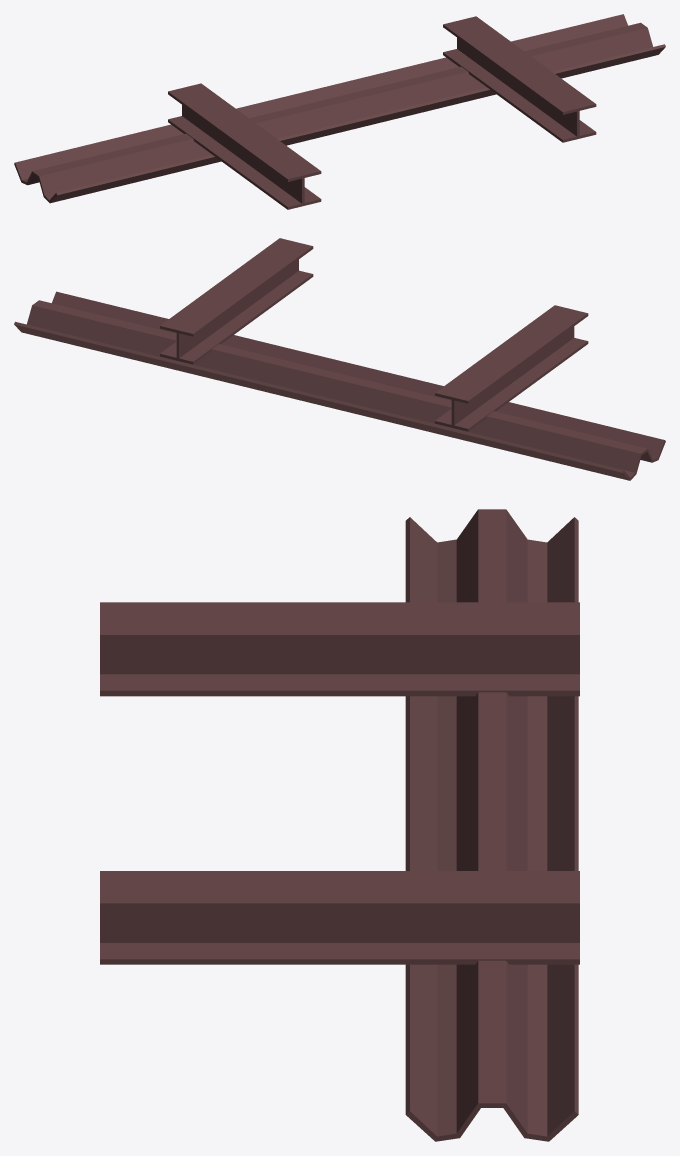
The model's file is Barrier.fbx.
The picture shows the model from 3 angles, top to bottom: view 1: azimuth 30°, elevation 25°; view 2: azimuth 150°, elevation 25°; view 3: azimuth 270°, elevation 25°; orthographic projection. The views are drawn at different scales.
Parts seen in each view (by area): view 1: Road Side Barrier.004; view 2: Road Side Barrier.004; view 3: Road Side Barrier.004.
Boxes of the visible parts, x1,y1,x2,y2 form: Road Side Barrier.004: (14,14,665,209); Road Side Barrier.004: (14,238,665,480); Road Side Barrier.004: (100,509,579,1141).
Size of the model in its own units: 583 by 43.79 by 199.
